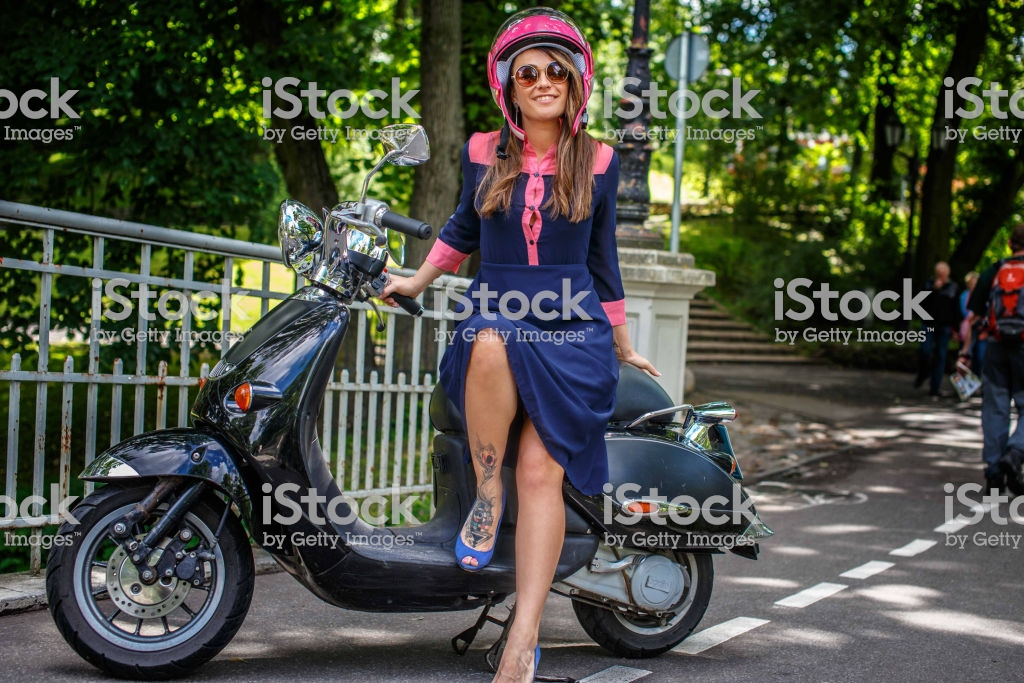helmet: (488, 23, 604, 118)
